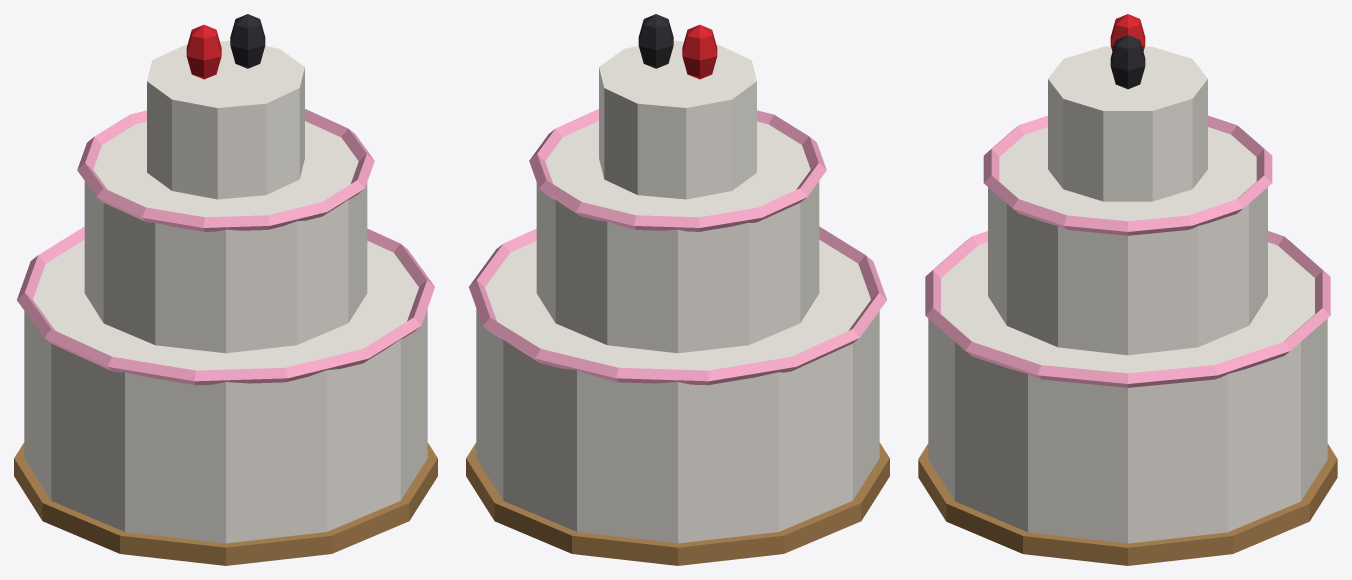
Rendered from wedding_cake_sample.glb.
3 renders of one model, left to right at view 1: azimuth 30°, elevation 25°; view 2: azimuth 150°, elevation 25°; view 3: azimuth 270°, elevation 25°, orthographic.
Visible parts, largest first — view 1: cake_fake_icing (×3), trim_fake_trim (×2), cake_cardboard, topper_topper, topper_topper_black; view 2: cake_fake_icing (×3), trim_fake_trim (×2), cake_cardboard, topper_topper, topper_topper_black; view 3: cake_fake_icing (×3), trim_fake_trim (×2), cake_cardboard, topper_topper_black, topper_topper.
Boxes of the visible parts, bbox=[...] form: cake_fake_icing (×3): bbox=[24, 40, 427, 543]; trim_fake_trim (×2): bbox=[17, 109, 434, 385]; cake_cardboard: bbox=[14, 442, 437, 565]; topper_topper: bbox=[186, 24, 221, 79]; topper_topper_black: bbox=[230, 14, 265, 68]; cake_fake_icing (×3): bbox=[476, 40, 879, 543]; trim_fake_trim (×2): bbox=[469, 109, 886, 385]; cake_cardboard: bbox=[466, 442, 889, 565]; topper_topper: bbox=[682, 24, 717, 79]; topper_topper_black: bbox=[638, 14, 673, 68]; cake_fake_icing (×3): bbox=[928, 46, 1327, 543]; trim_fake_trim (×2): bbox=[925, 115, 1330, 387]; cake_cardboard: bbox=[918, 443, 1337, 565]; topper_topper_black: bbox=[1110, 35, 1145, 89]; topper_topper: bbox=[1110, 14, 1145, 51].
Size of the model in its own units: 0.42 by 0.5 by 0.42.
